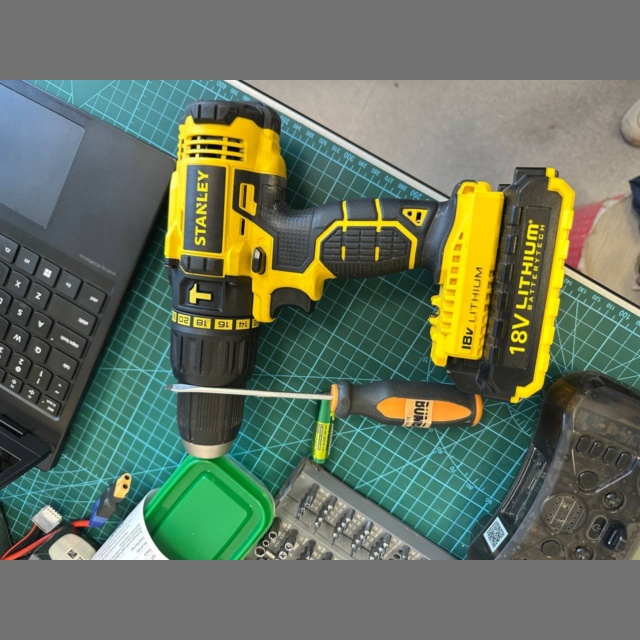drill: (163, 102, 576, 459)
screwdriver: (168, 380, 482, 427)
